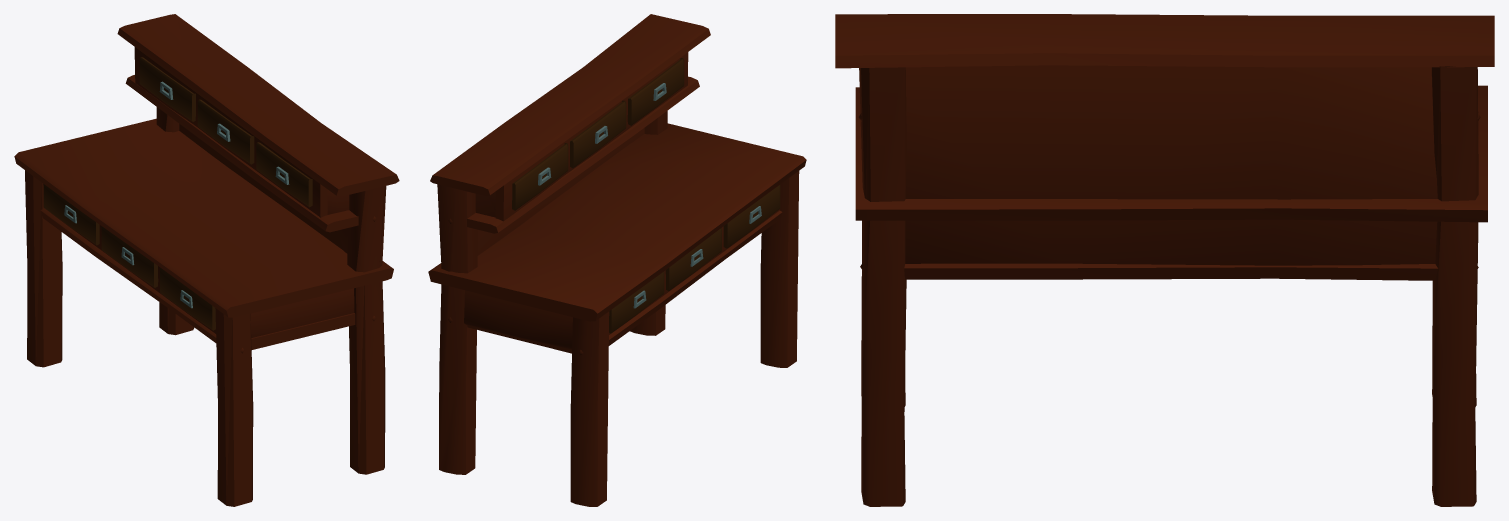
The model's file is desk.obj.
3 renders of one model, left to right at view 1: azimuth 30°, elevation 25°; view 2: azimuth 150°, elevation 25°; view 3: azimuth 270°, elevation 25°, orthographic. The views are drawn at different scales.
Parts seen in each view (by area): view 1: bureau; view 2: bureau; view 3: bureau.
Boxes of the visible parts, bbox=[...] form: bureau: bbox=[14, 14, 399, 506]; bureau: bbox=[428, 14, 806, 506]; bureau: bbox=[835, 14, 1494, 506].
Size of the model in its own units: 0.1182 by 0.2 by 0.2644.
